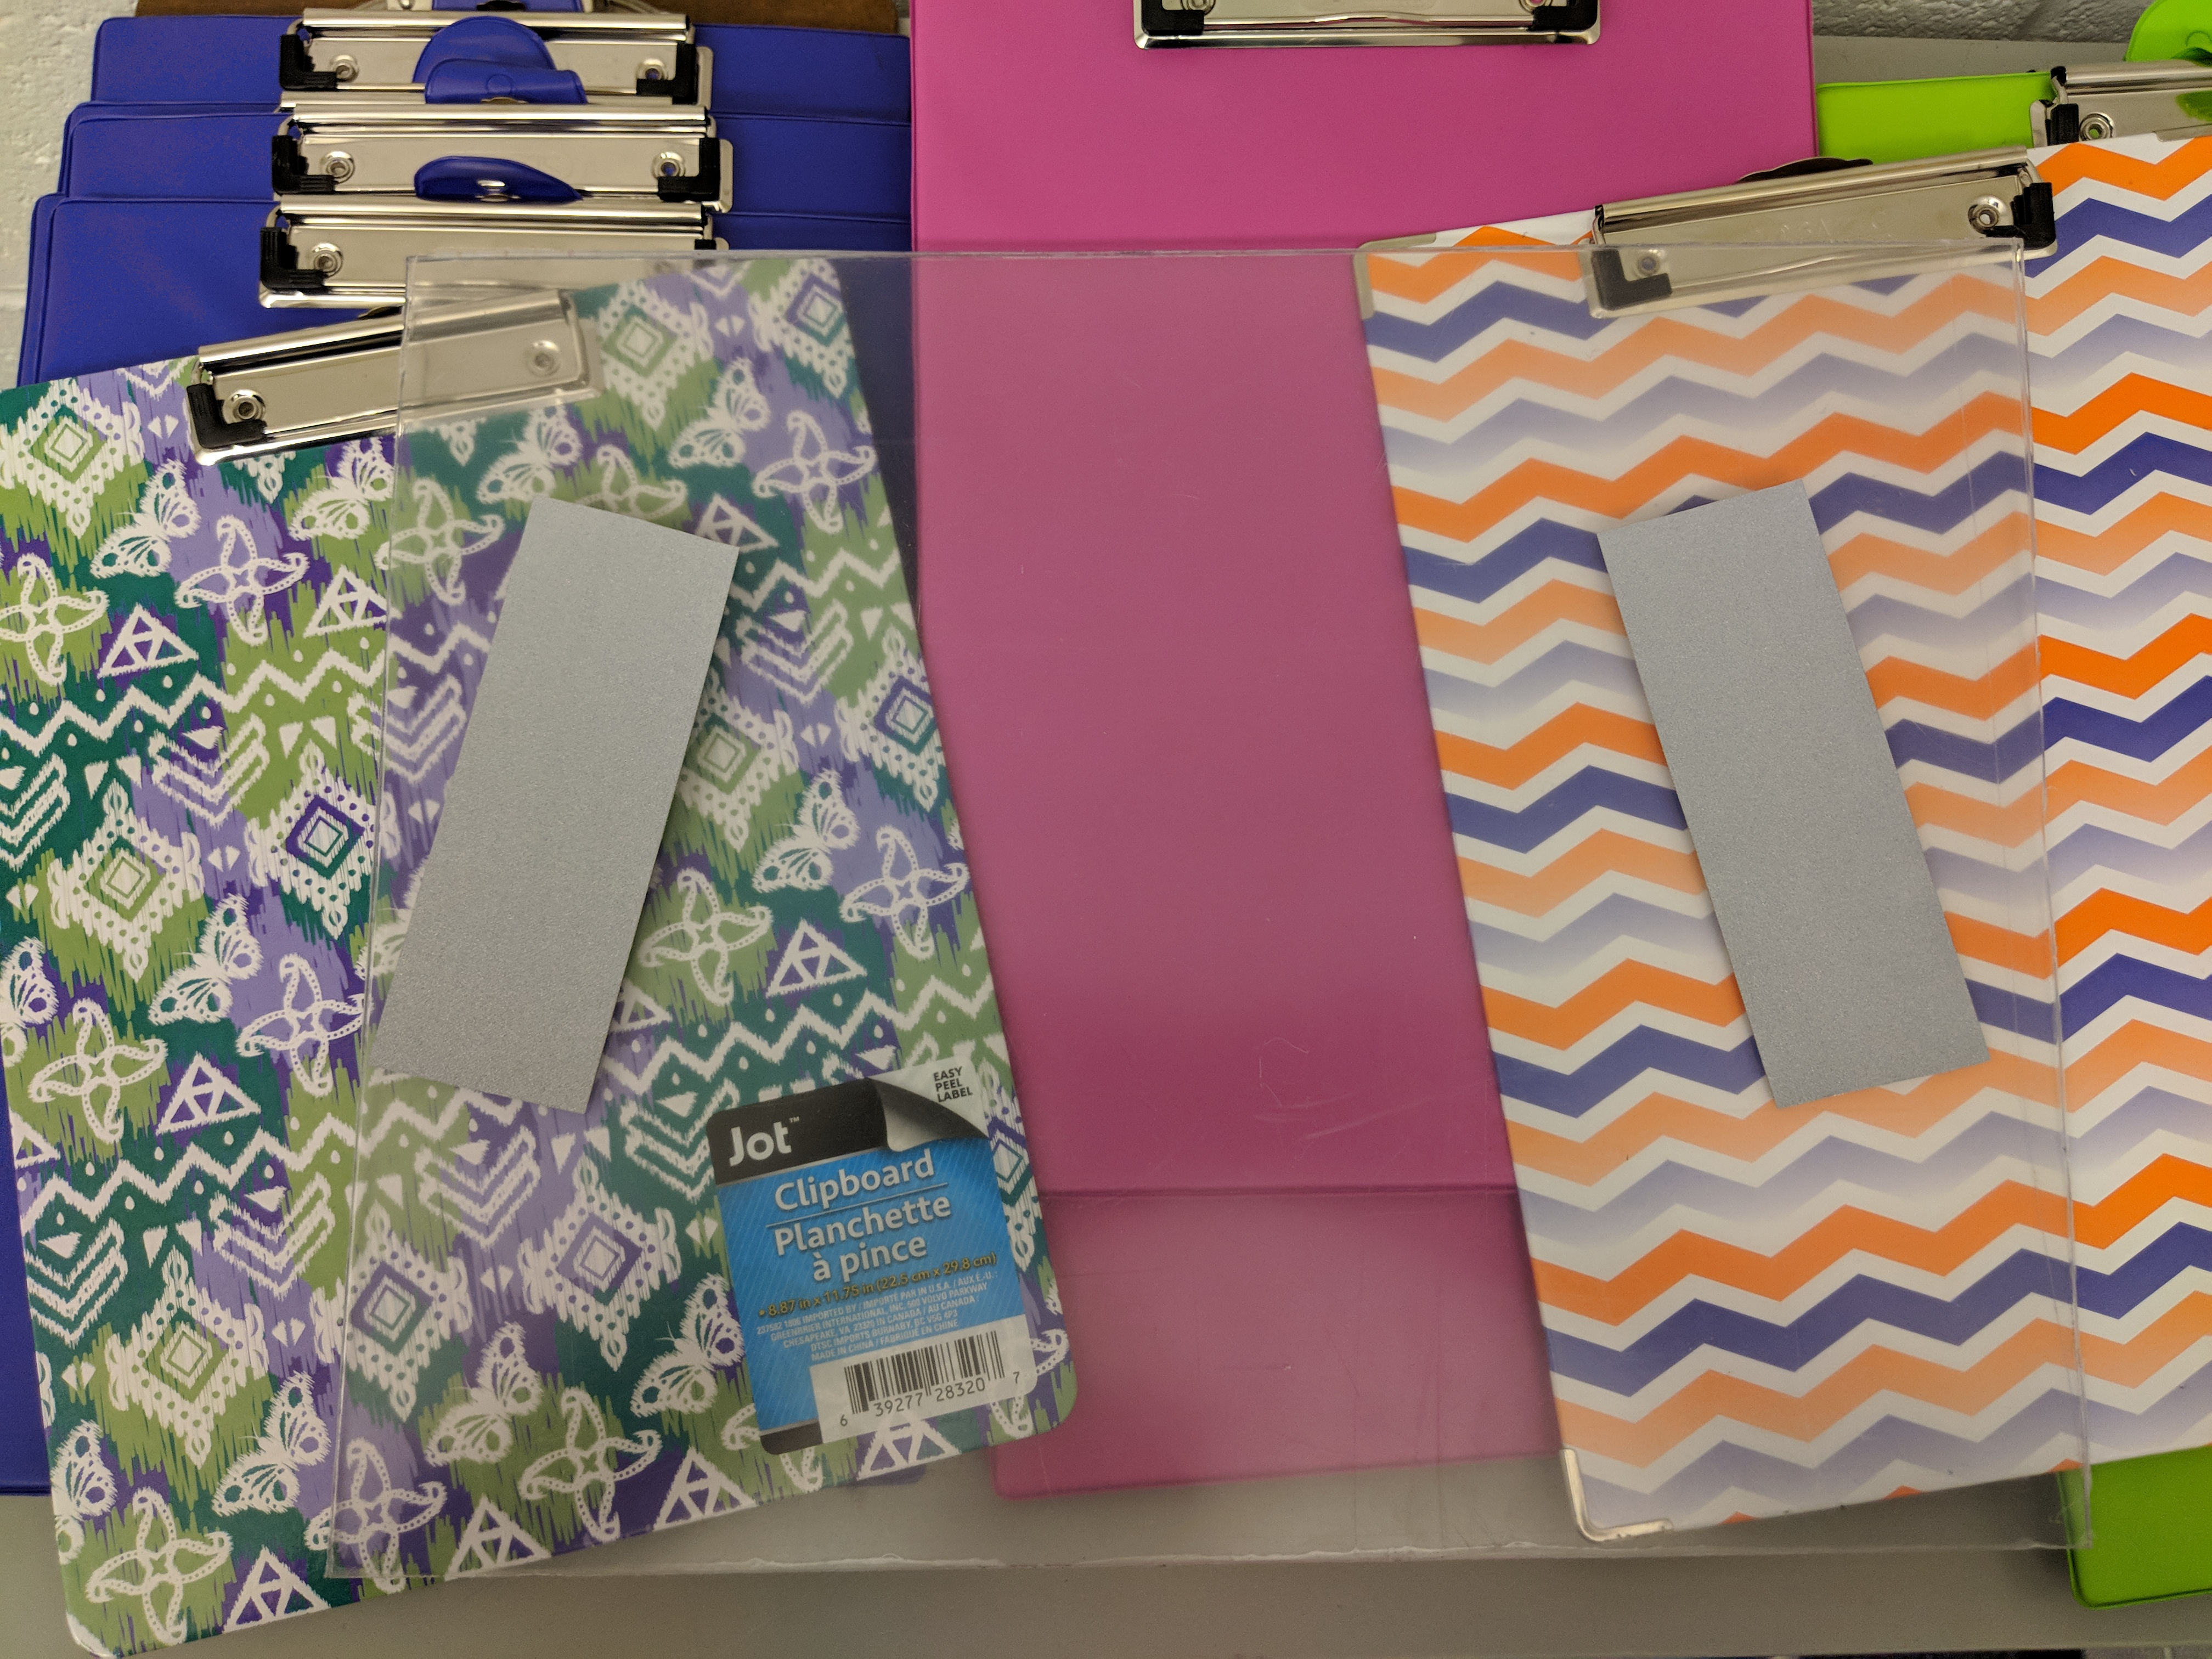vision_target: (366, 472, 2012, 1108)
